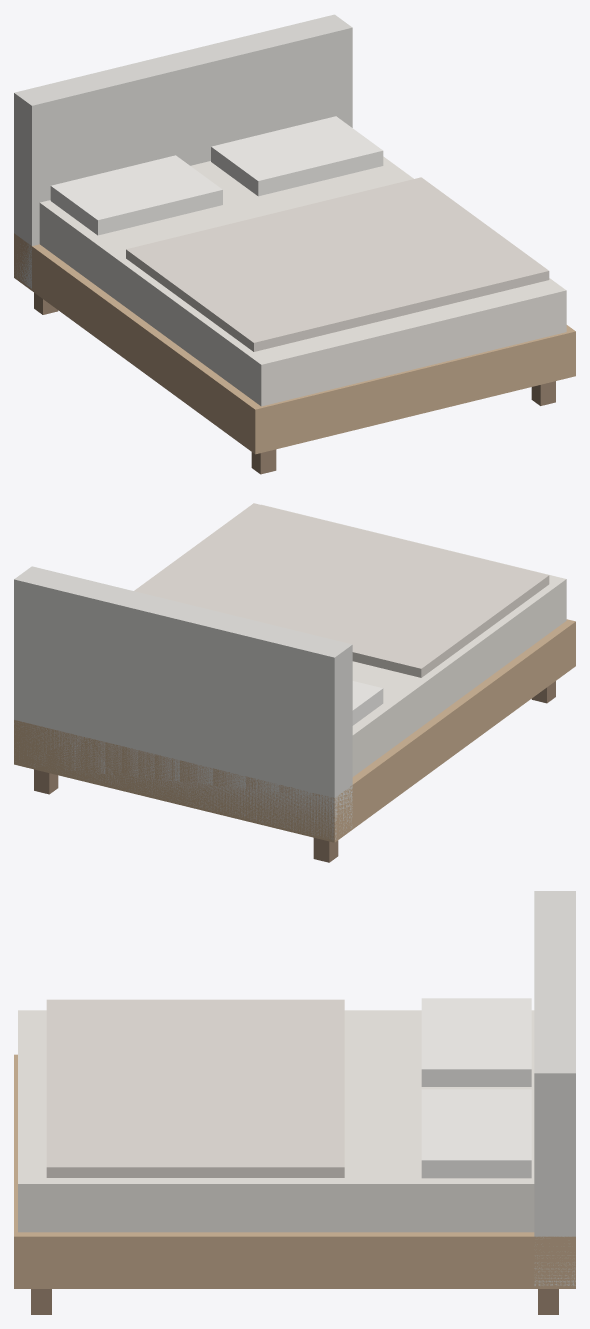
The model's file is bed.glb.
The picture shows the model from 3 angles, top to bottom: view 1: azimuth 30°, elevation 25°; view 2: azimuth 150°, elevation 25°; view 3: azimuth 270°, elevation 25°; orthographic projection. The views are drawn at different scales.
Visible parts, largest first — view 1: Upholstered Bed; view 2: Upholstered Bed; view 3: Upholstered Bed.
Boxes of the visible parts, box(x1,y1,x2,y2) form: Upholstered Bed: box(14, 14, 575, 474); Upholstered Bed: box(14, 503, 575, 862); Upholstered Bed: box(14, 891, 575, 1314).
Bounding box in the file's own units: 1.65 × 1.05 × 2.15.
